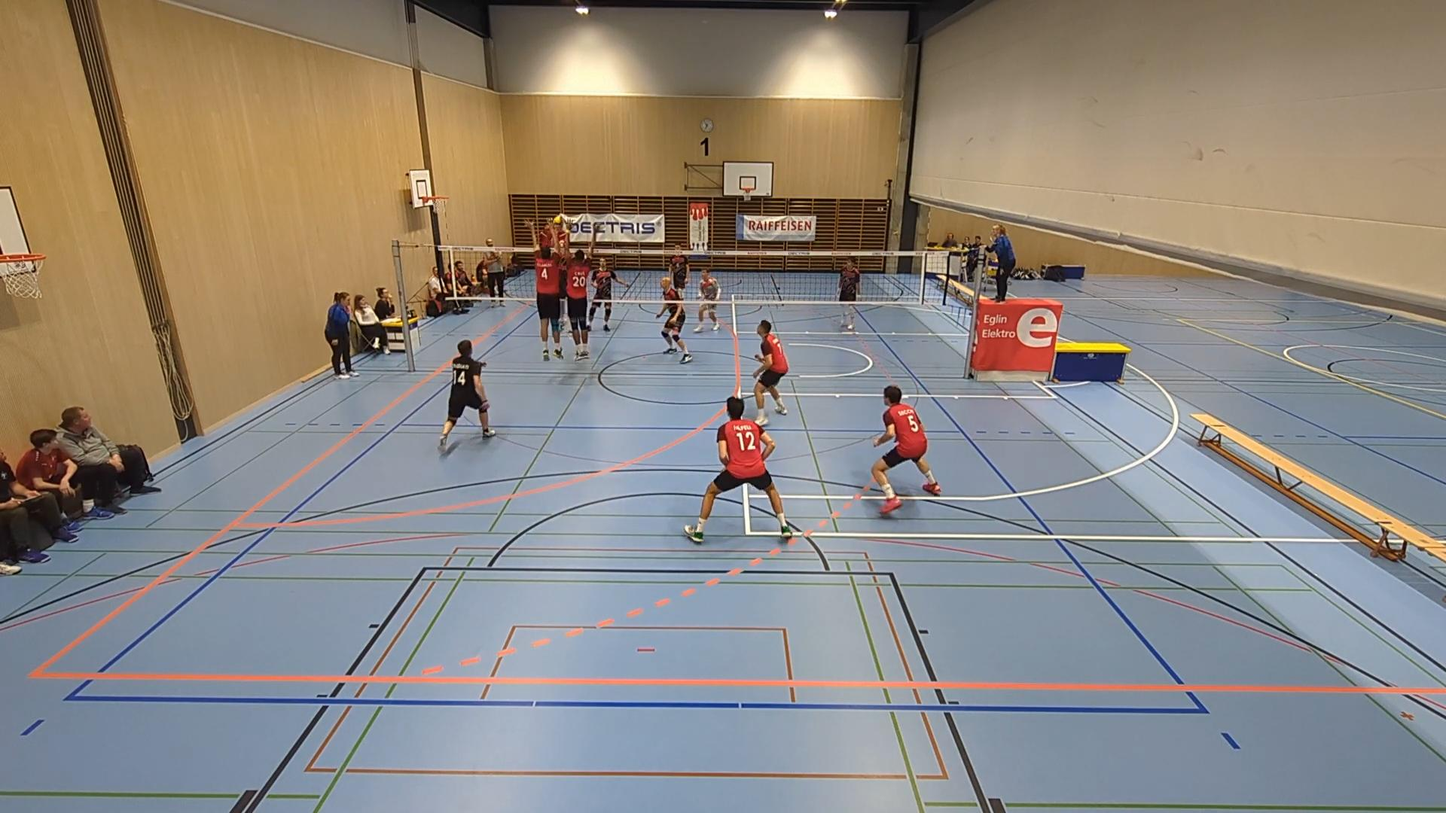attacco: (536, 205, 580, 347)
muro: (553, 224, 603, 364), (529, 225, 564, 365)
